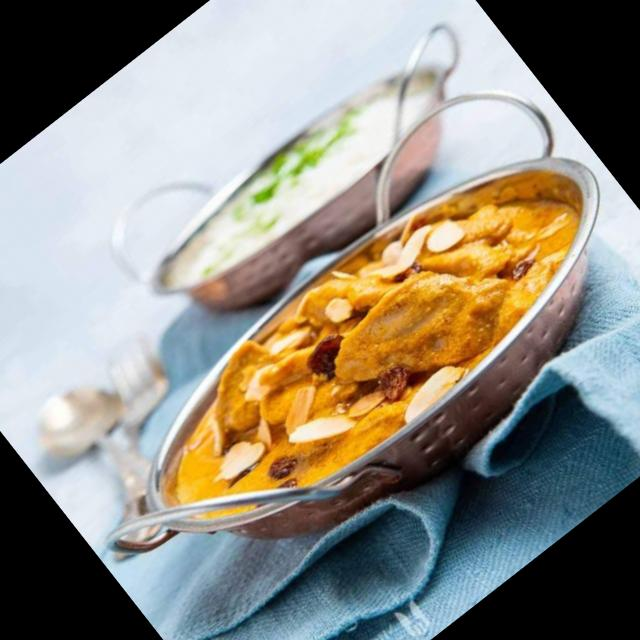chicken: (89, 128, 619, 591)
